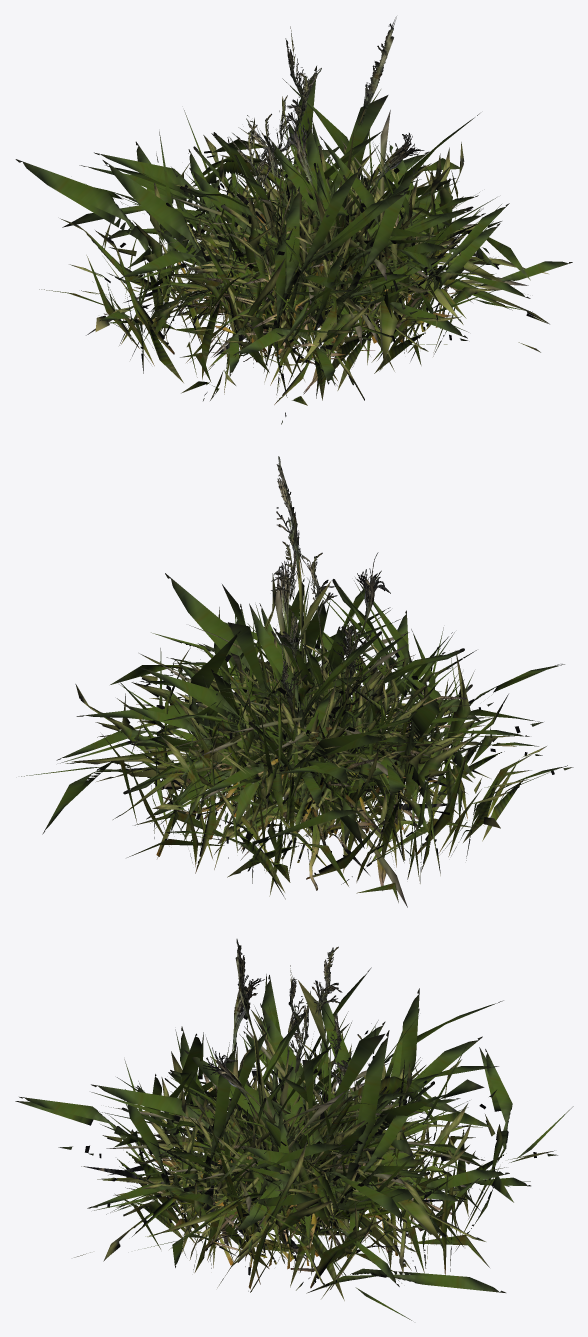
File: grass_medium_01.glb
The picture shows the model from 3 angles, top to bottom: view 1: azimuth 30°, elevation 25°; view 2: azimuth 150°, elevation 25°; view 3: azimuth 270°, elevation 25°; orthographic projection.
Visible parts, largest first — view 1: grass_medium_01_v0_near, grass_medium_01_v2_near, grass_medium_01_v0_far, grass_medium_01_v1_near, grass_medium_01_v3_near, grass_medium_01_v5_far, grass_medium_01_v5_near, grass_medium_01_v2_far, grass_medium_01_v3_far, grass_medium_01_v4_near, grass_medium_01_v1_far, grass_medium_01_v4_far; view 2: grass_medium_01_v0_near, grass_medium_01_v0_far, grass_medium_01_v2_near, grass_medium_01_v1_near, grass_medium_01_v3_near, grass_medium_01_v5_near, grass_medium_01_v5_far, grass_medium_01_v4_near, grass_medium_01_v3_far, grass_medium_01_v4_far, grass_medium_01_v2_far, grass_medium_01_v1_far; view 3: grass_medium_01_v0_near, grass_medium_01_v2_near, grass_medium_01_v1_near, grass_medium_01_v0_far, grass_medium_01_v3_near, grass_medium_01_v5_far, grass_medium_01_v1_far, grass_medium_01_v3_far, grass_medium_01_v2_far, grass_medium_01_v5_near, grass_medium_01_v4_near, grass_medium_01_v4_far.
Boxes of the visible parts, x1,y1,x2,y2 form: grass_medium_01_v0_near: [39, 103, 500, 424]; grass_medium_01_v2_near: [105, 117, 572, 387]; grass_medium_01_v0_far: [15, 66, 501, 405]; grass_medium_01_v1_near: [62, 80, 549, 382]; grass_medium_01_v3_near: [86, 17, 528, 361]; grass_medium_01_v5_far: [180, 133, 476, 382]; grass_medium_01_v5_near: [177, 132, 479, 385]; grass_medium_01_v2_far: [121, 120, 501, 362]; grass_medium_01_v3_far: [191, 17, 441, 354]; grass_medium_01_v4_near: [104, 68, 371, 400]; grass_medium_01_v1_far: [174, 96, 549, 369]; grass_medium_01_v4_far: [106, 68, 400, 397]; grass_medium_01_v0_near: [64, 573, 573, 902]; grass_medium_01_v0_far: [21, 573, 559, 894]; grass_medium_01_v2_near: [56, 570, 539, 875]; grass_medium_01_v1_near: [67, 584, 516, 858]; grass_medium_01_v3_near: [137, 456, 441, 907]; grass_medium_01_v5_near: [123, 579, 466, 839]; grass_medium_01_v5_far: [126, 583, 465, 833]; grass_medium_01_v4_near: [152, 550, 472, 890]; grass_medium_01_v3_far: [194, 456, 429, 844]; grass_medium_01_v4_far: [161, 551, 471, 889]; grass_medium_01_v2_far: [60, 577, 526, 840]; grass_medium_01_v1_far: [66, 580, 468, 821]; grass_medium_01_v0_near: [19, 1010, 573, 1300]; grass_medium_01_v2_near: [87, 1003, 509, 1286]; grass_medium_01_v1_near: [74, 1023, 513, 1291]; grass_medium_01_v0_far: [15, 967, 554, 1320]; grass_medium_01_v3_near: [106, 939, 479, 1238]; grass_medium_01_v5_far: [159, 975, 464, 1275]; grass_medium_01_v1_far: [98, 980, 482, 1266]; grass_medium_01_v3_far: [161, 939, 432, 1243]; grass_medium_01_v2_far: [81, 1006, 506, 1283]; grass_medium_01_v5_near: [122, 974, 466, 1275]; grass_medium_01_v4_near: [123, 968, 458, 1289]; grass_medium_01_v4_far: [177, 965, 456, 1289].
Size of the model in its own units: 0.3182 by 0.2171 by 0.3285.
Materials: 1 (1 with a texture image).
